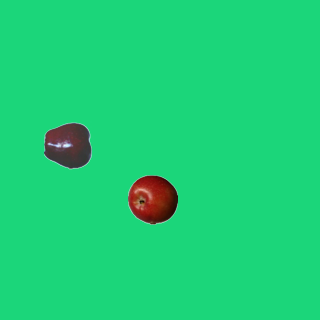Apple Braeburn: (127, 174, 177, 224)
Apple Red Delicious: (43, 120, 93, 170)
